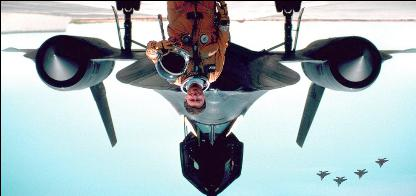F117: (374, 155, 388, 166), (333, 174, 347, 185), (354, 167, 368, 177), (316, 168, 330, 178)
Rafale: (1, 1, 415, 193)
